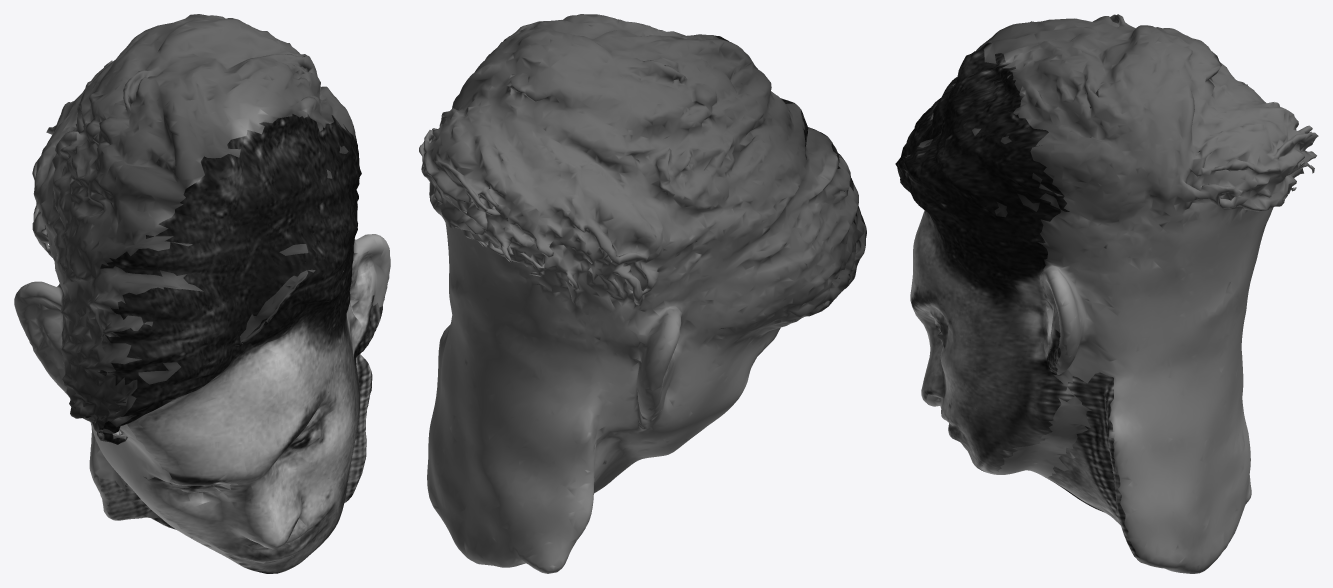
Rendered from kawabata.glb.
3 renders of one model, left to right at view 1: azimuth 30°, elevation 25°; view 2: azimuth 150°, elevation 25°; view 3: azimuth 270°, elevation 25°, orthographic. The views are drawn at different scales.
Parts seen in each view (by area): view 1: face, head; view 2: head; view 3: head, face.
Part boxes in pixels (bbox=[...]): face: bbox=[85, 112, 382, 573]; head: bbox=[14, 14, 390, 568]; head: bbox=[419, 14, 866, 573]; head: bbox=[903, 14, 1318, 573]; face: bbox=[895, 42, 1139, 561].
Bounding box in the file's own units: 1.32 × 1.92 × 1.46.
1 material, 1 textured.
